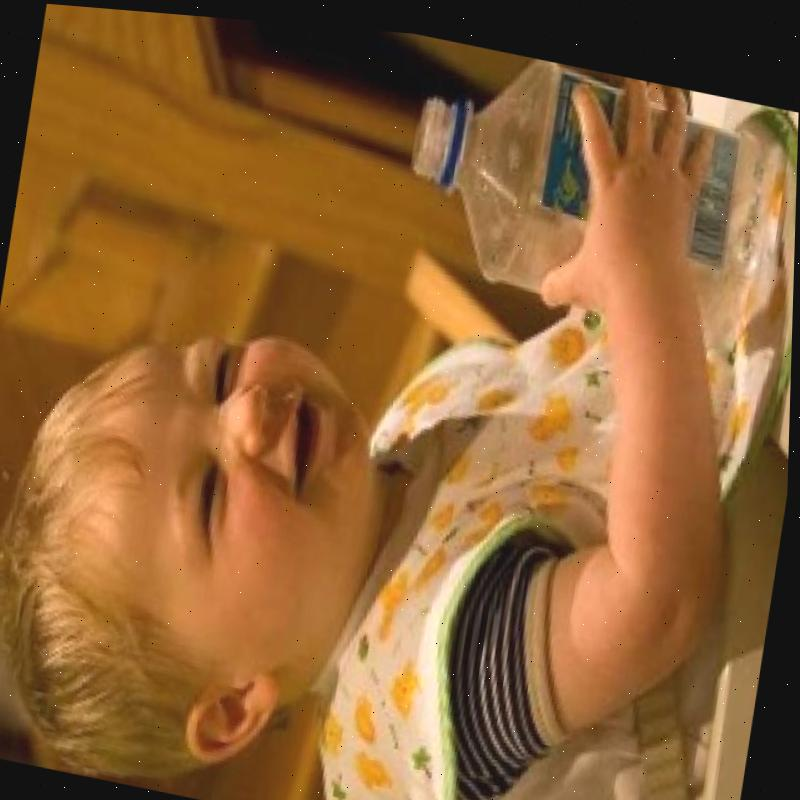botella: (391, 26, 793, 332)
